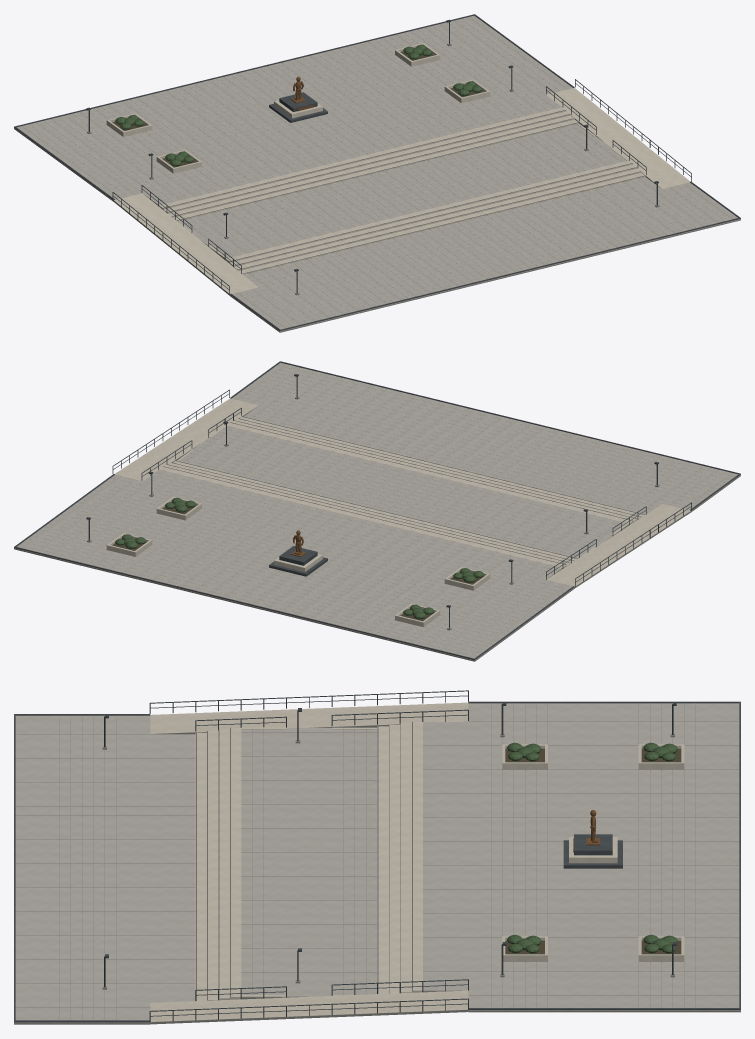
3 views of the same model, one above another, from view 1: azimuth 30°, elevation 25°; view 2: azimuth 150°, elevation 25°; view 3: azimuth 270°, elevation 25° (orthographic). The views are drawn at different scales.
Visible parts, largest first — view 1: VIS_Paver_Paving, VIS_Ramp_Surface_Limestone, VIS_Stair_Tread_4_Limestone, VIS_Stair_Tread_3_Limestone, VIS_Stair_Tread_2_Limestone, VIS_Stair_Tread_1_Limestone, VIS_Trimmed_Plant_Foliage, VIS_Tile_Base_Concrete, VIS_South_Coping_Dark_Granite, VIS_North_Coping_Dark_Granite, VIS_Planter_Wall_NS_Limestone, VIS_Planter_Wall_EW_Limestone (+6 smaller); view 2: VIS_Paver_Paving, VIS_Ramp_Surface_Limestone, VIS_Stair_Tread_4_Limestone, VIS_Stair_Tread_3_Limestone, VIS_Stair_Tread_2_Limestone, VIS_Stair_Tread_1_Limestone, VIS_Trimmed_Plant_Foliage, VIS_Tile_Base_Concrete, VIS_North_Coping_Dark_Granite, VIS_South_Coping_Dark_Granite, VIS_Planter_Wall_EW_Limestone, VIS_Stair_Nosing_3_Dark_Granite (+7 smaller); view 3: VIS_Paver_Paving, VIS_Ramp_Surface_Limestone, VIS_Tile_Base_Concrete, VIS_Stair_Tread_4_Limestone, VIS_Stair_Tread_3_Limestone, VIS_Stair_Tread_2_Limestone, VIS_Stair_Tread_1_Limestone, VIS_Trimmed_Plant_Foliage, VIS_Planter_Wall_EW_Limestone, VIS_Sloping_Top_Rail_Black_Steel, VIS_Sloping_Mid_Rail_Black_Steel, VIS_Ramp_Underside_Concrete (+12 smaller).
Part boxes in pixels (x1,y1,x2,y2): VIS_Paver_Paving: (14,15,740,331); VIS_Ramp_Surface_Limestone: (114,88,689,294); VIS_Stair_Tread_4_Limestone: (159,107,633,263); VIS_Stair_Tread_3_Limestone: (163,111,637,266); VIS_Stair_Tread_2_Limestone: (168,115,641,270); VIS_Stair_Tread_1_Limestone: (173,119,645,274); VIS_Trimmed_Plant_Foliage: (115,44,482,166); VIS_Tile_Base_Concrete: (14,128,740,332); VIS_South_Coping_Dark_Granite: (281,217,740,330); VIS_North_Coping_Dark_Granite: (15,14,474,127); VIS_Planter_Wall_NS_Limestone: (109,43,488,172); VIS_Planter_Wall_EW_Limestone: (106,43,490,173); VIS_Paver_Paving: (14,362,740,660); VIS_Ramp_Surface_Limestone: (115,398,690,586); VIS_Stair_Tread_4_Limestone: (159,422,633,568); VIS_Stair_Tread_3_Limestone: (165,420,637,565); VIS_Stair_Tread_2_Limestone: (169,418,641,563); VIS_Stair_Tread_1_Limestone: (173,417,644,560); VIS_Trimmed_Plant_Foliage: (115,497,483,619); VIS_Tile_Base_Concrete: (14,475,740,661); VIS_North_Coping_Dark_Granite: (14,547,474,659); VIS_South_Coping_Dark_Granite: (280,361,740,474); VIS_Planter_Wall_EW_Limestone: (106,496,490,627); VIS_Stair_Nosing_3_Dark_Granite: (167,420,636,562); VIS_Paver_Paving: (14,703,740,1023); VIS_Ramp_Surface_Limestone: (150,702,468,1021); VIS_Tile_Base_Concrete: (14,704,740,1024); VIS_Stair_Tread_4_Limestone: (229,722,422,999); VIS_Stair_Tread_3_Limestone: (218,723,411,1000); VIS_Stair_Tread_2_Limestone: (207,725,400,1000); VIS_Stair_Tread_1_Limestone: (195,726,388,1000); VIS_Trimmed_Plant_Foliage: (507,742,677,953); VIS_Planter_Wall_EW_Limestone: (502,744,684,961); VIS_Sloping_Top_Rail_Black_Steel: (150,690,468,1011); VIS_Sloping_Mid_Rail_Black_Steel: (150,695,467,1016); VIS_Ramp_Underside_Concrete: (150,721,468,1024).
Bounding box in the file's own units: 64.27 × 5.93 × 64.
Materials: 9 (9 with a texture image).
